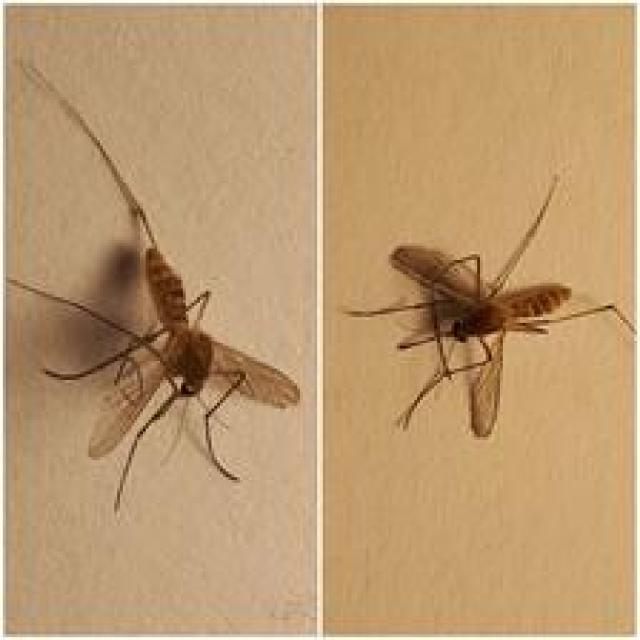Culex: (344, 173, 636, 438)
